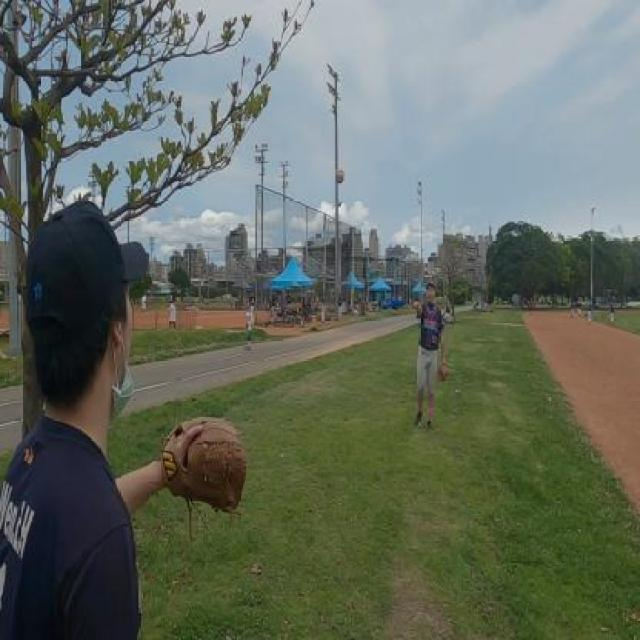baseball: (336, 168, 344, 183)
